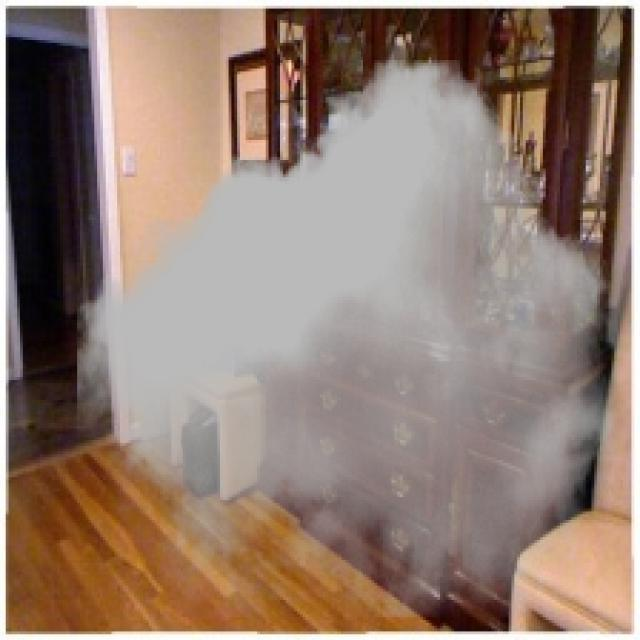Smoke: (77, 60, 617, 617)
